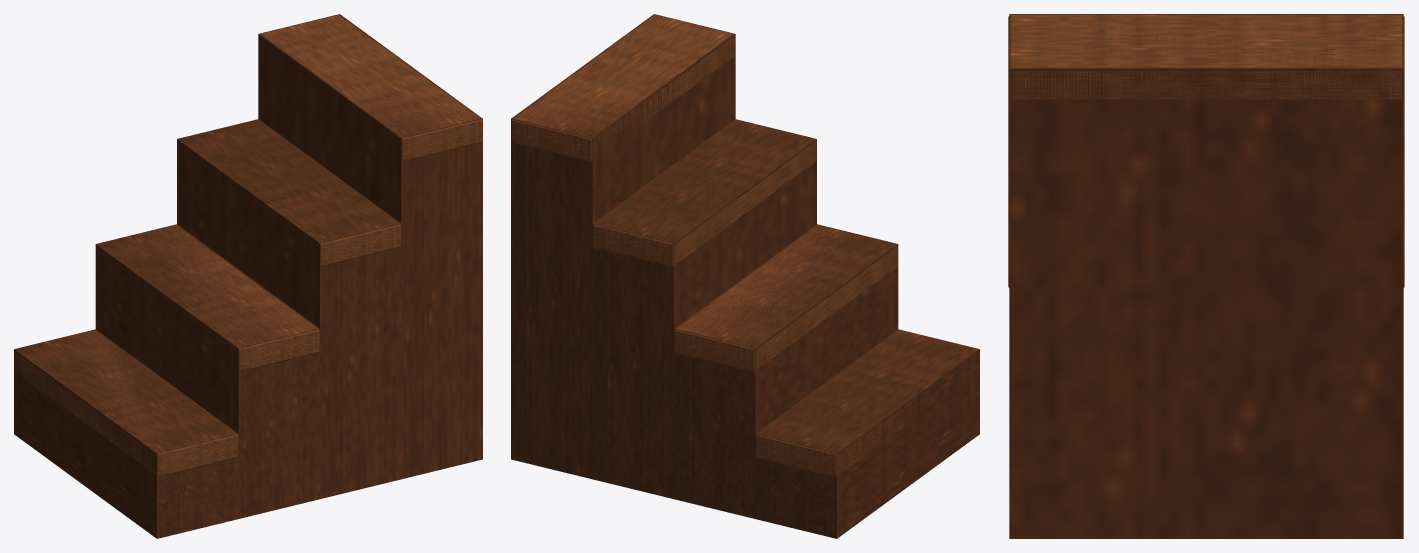
The model's file is escada-madeira.glb.
3 renders of one model, left to right at view 1: azimuth 30°, elevation 25°; view 2: azimuth 150°, elevation 25°; view 3: azimuth 270°, elevation 25°, orthographic. The views are drawn at different scales.
Visible parts, largest first — view 1: Corpo do degrau.004, Piso do degrau.004; view 2: Corpo do degrau.004, Piso do degrau.004; view 3: Corpo do degrau.004, Piso do degrau.004.
Part boxes in pixels (x1,y1,x2,y2): Corpo do degrau.004: [14, 14, 482, 538]; Piso do degrau.004: [14, 15, 482, 476]; Corpo do degrau.004: [511, 14, 979, 538]; Piso do degrau.004: [511, 15, 936, 476]; Corpo do degrau.004: [1009, 14, 1403, 538]; Piso do degrau.004: [1008, 15, 1404, 287].
Bounding box in the file's own units: 1 × 1 × 0.764.
Materials: 2 (2 with a texture image).
